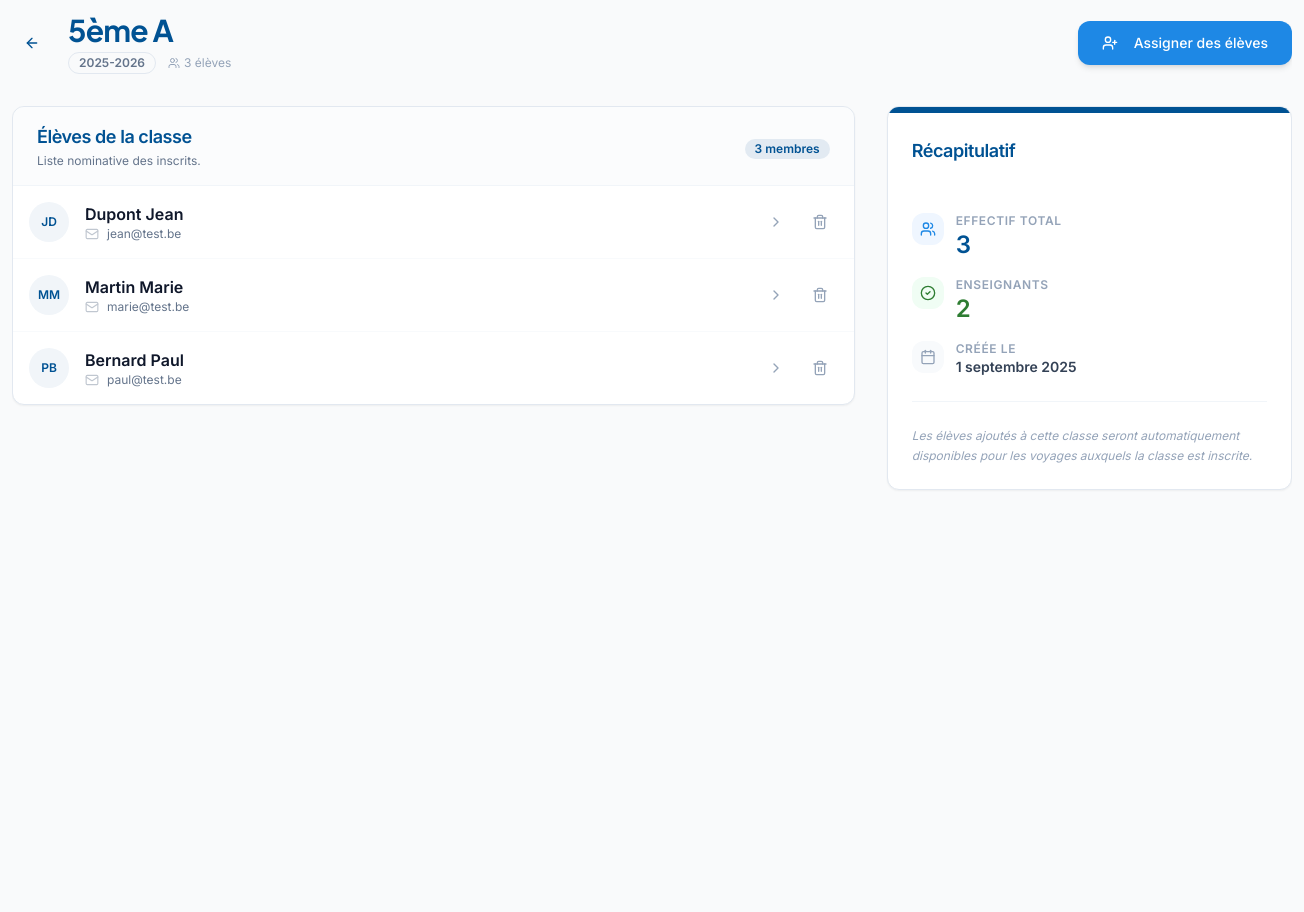
Scenario: ClassDetailScreen › shows empty available when all students enrolled
Expected: the heading "5ème A" is shown, [68,11,173,49]
Click the button "Assigner des élèves": click(1185, 43) [1078,21,1292,65]
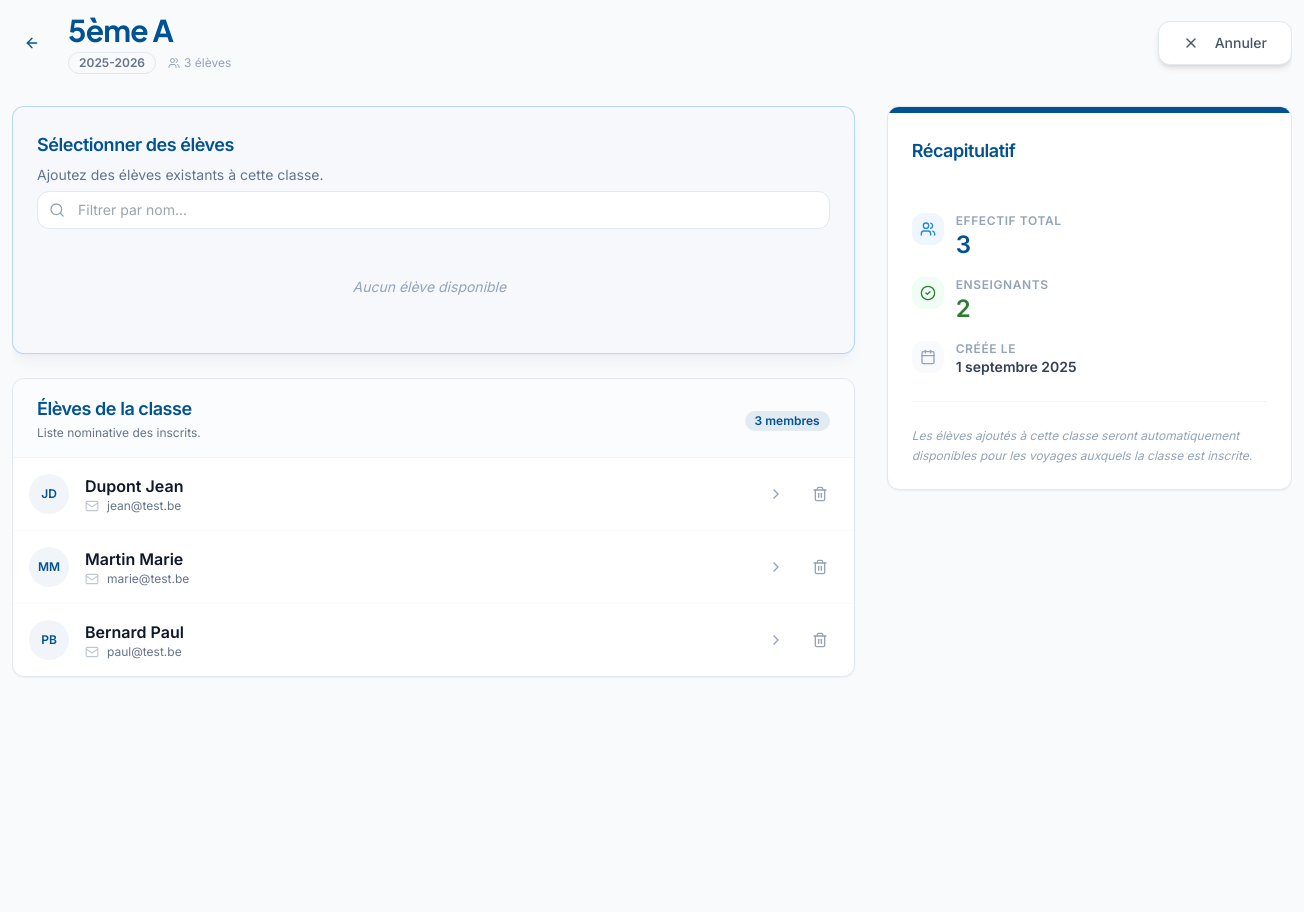
Now the text "Aucun élève disponible" is shown, box [352,278,506,295]
